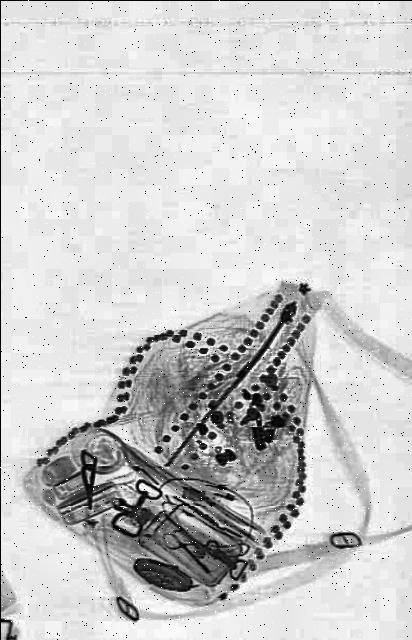Scissors: (162, 516, 218, 584)
